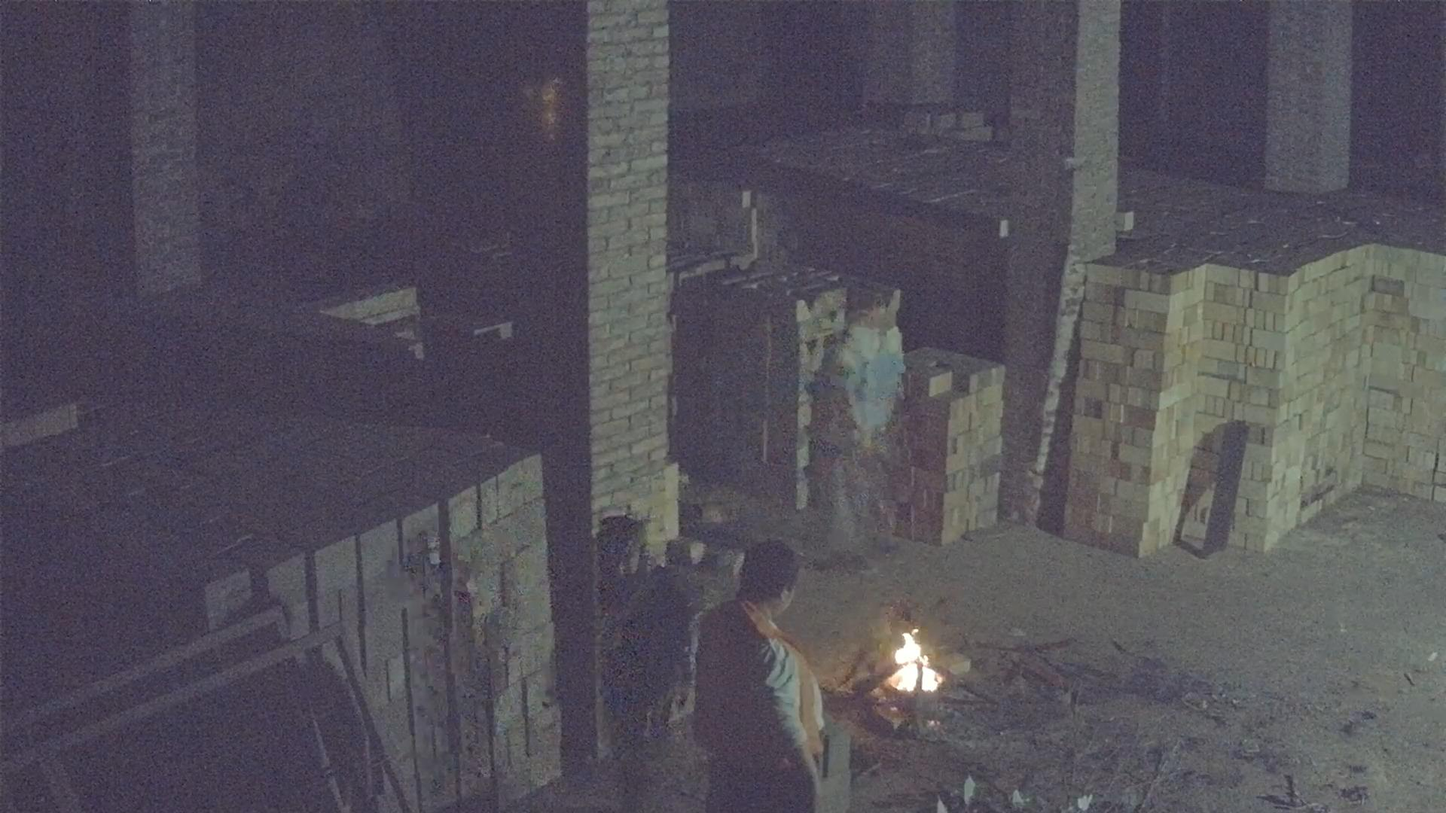fire: (888, 632, 941, 692)
